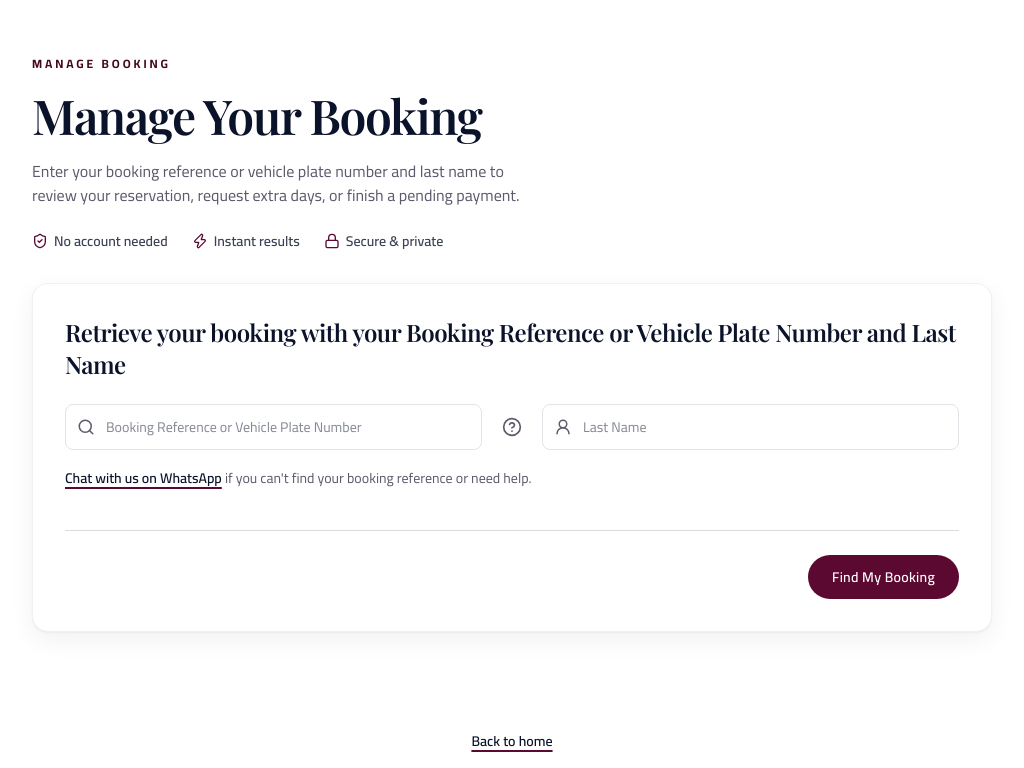
it: ManageBookingPage › shows the BookingLookupError message directly when the lookup itself fails
Type "BLS-ABCDEF12" into the field with placeholder "Booking Reference or Vehicle Plate Number" at (274, 427), box [65,404,482,450]
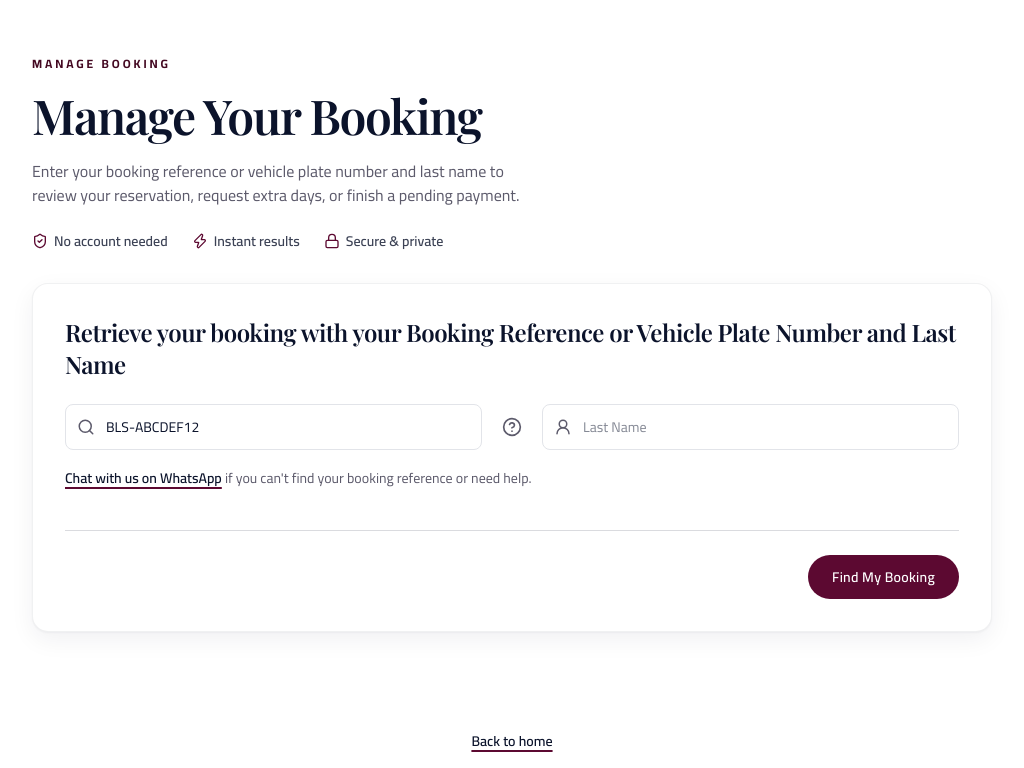
Type "Renter" into the field with placeholder "Last Name" at (750, 427), box [542,404,959,450]
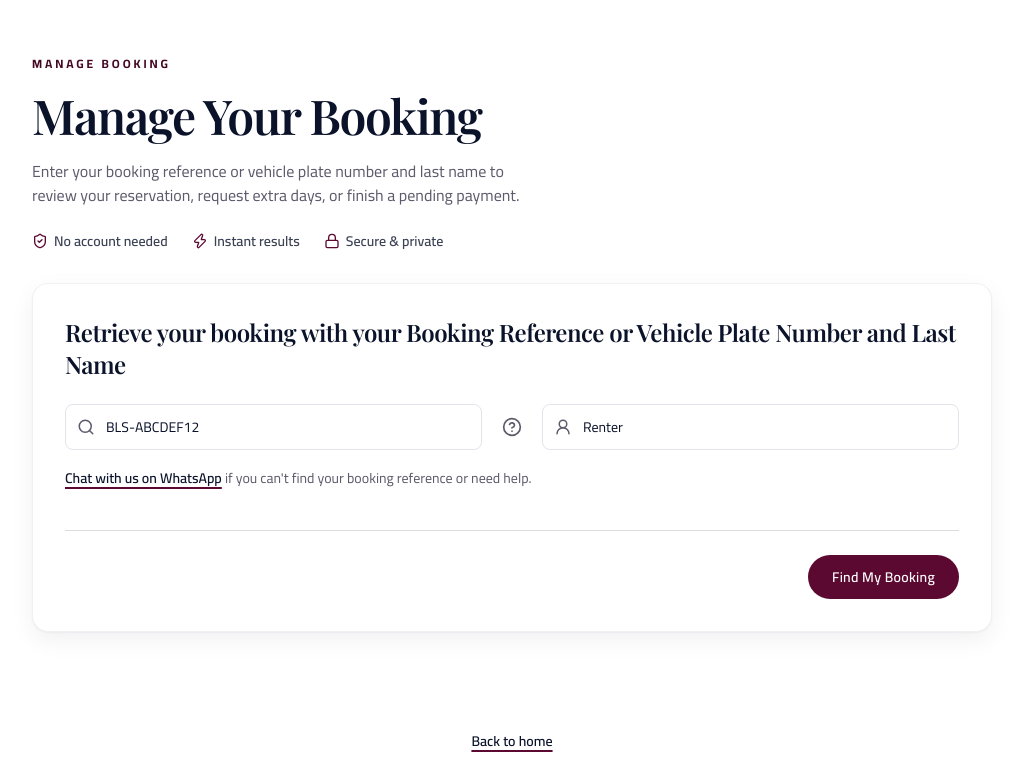
Click the button "Find My Booking" at (884, 577), box [808,555,959,599]
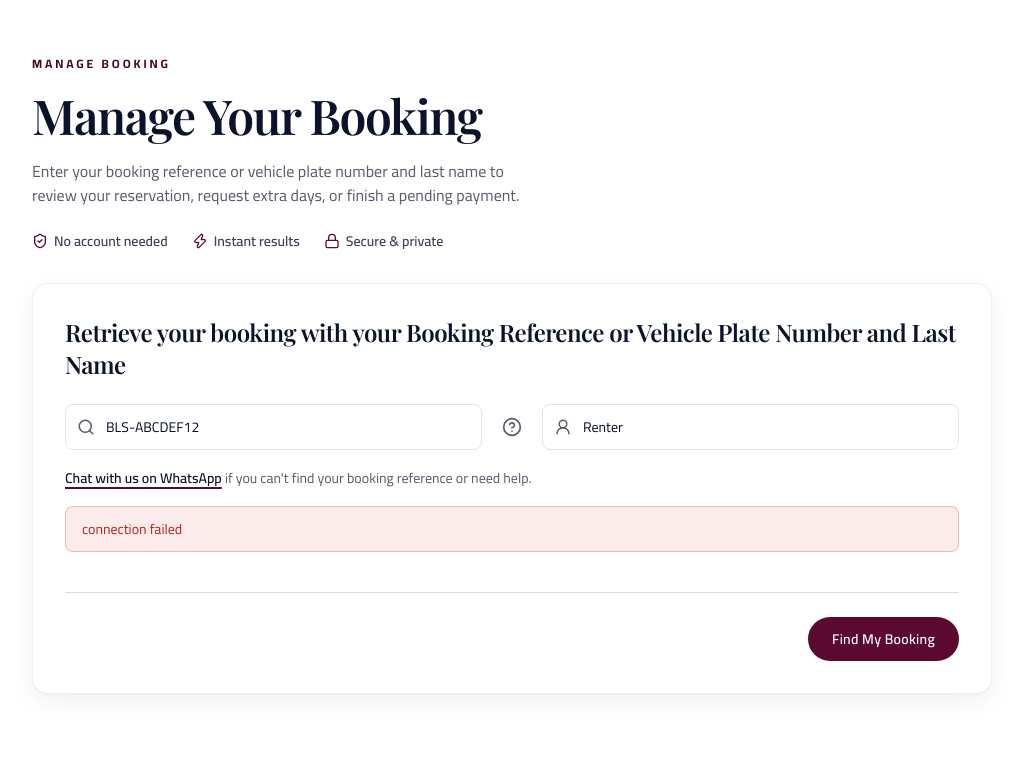
Expected: the text "connection failed" is shown, [65,506,959,552]
